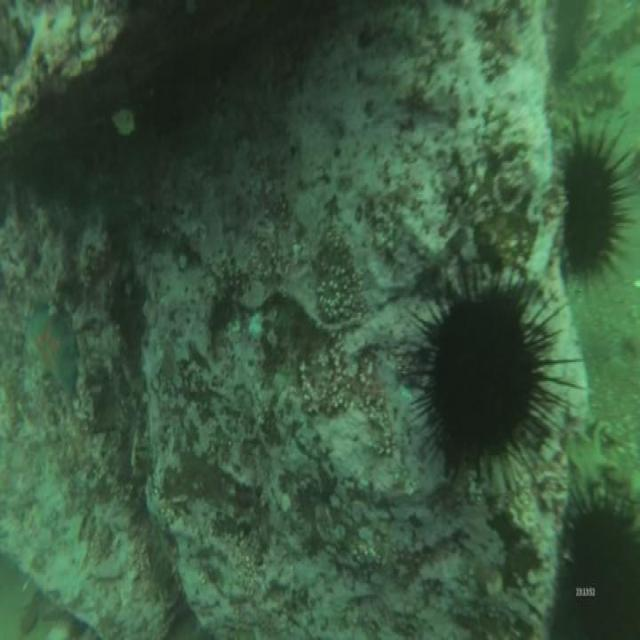echinus: (418, 263, 557, 492), (549, 477, 640, 635), (559, 128, 628, 284)
starfish: (23, 304, 81, 396)
